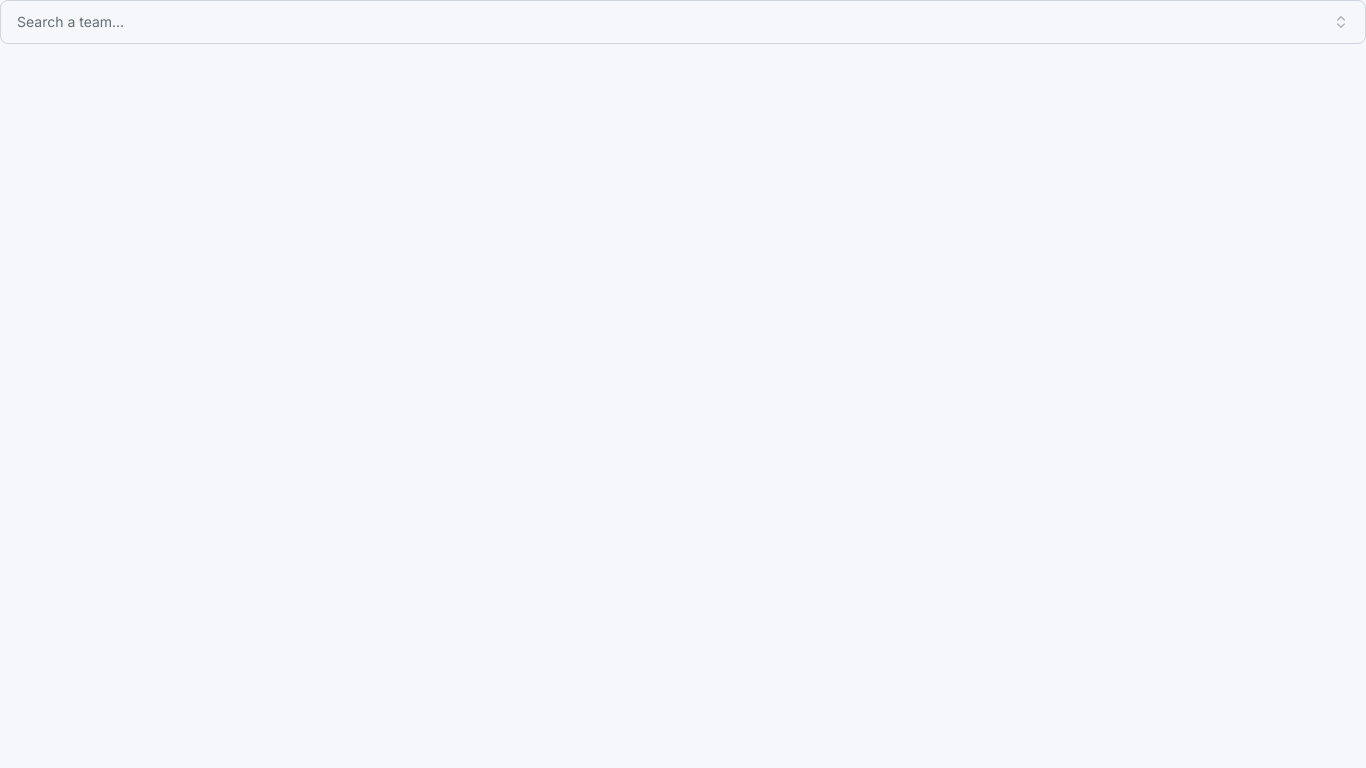
Test: TeamCombobox › shows an empty-result message when nothing matches
Step 1. Click the dropdown → (71, 22), box x1=0 y1=0 x2=1365 y2=44
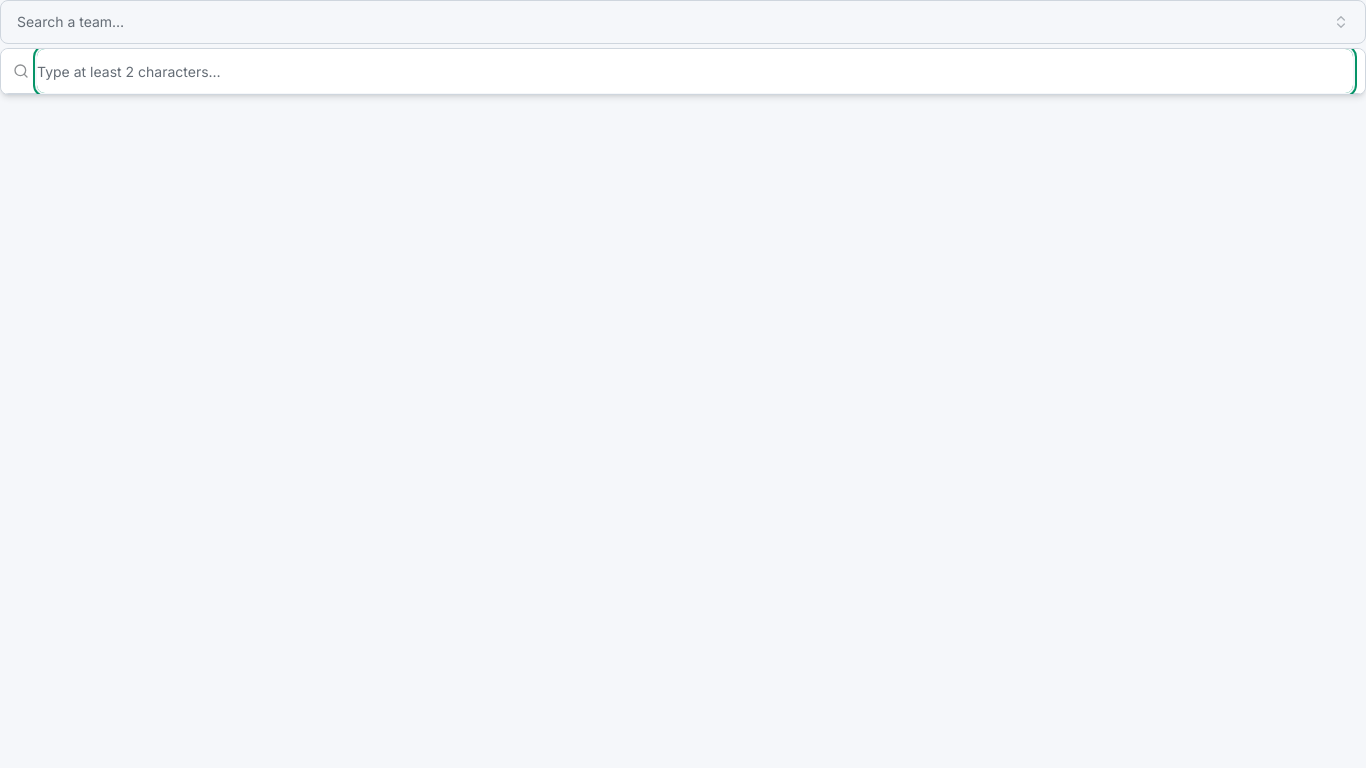
Step 2. Type "zzz" into the dropdown with placeholder "Type at least 2 characters…" → (695, 71), box x1=37 y1=49 x2=1353 y2=93
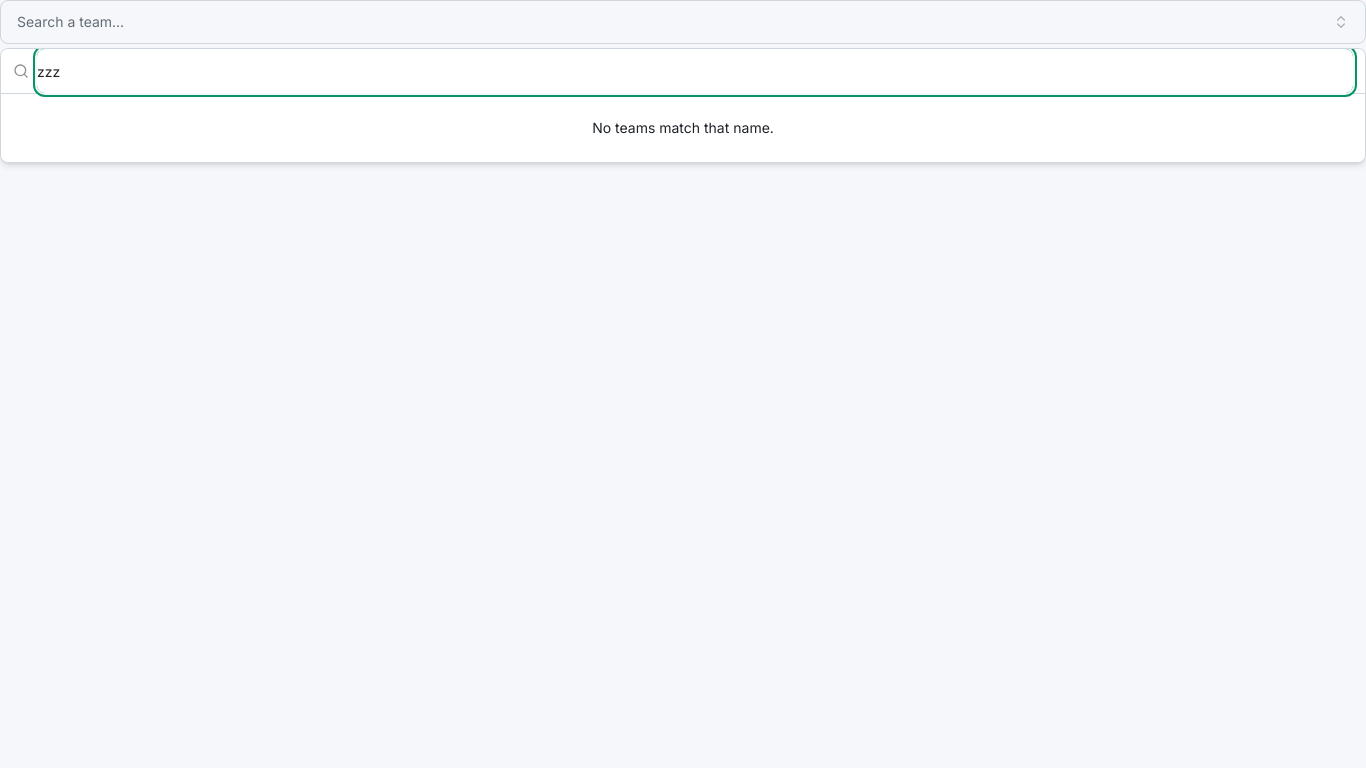
Check: the text "No teams match that name." is shown, box x1=592 y1=119 x2=774 y2=136
